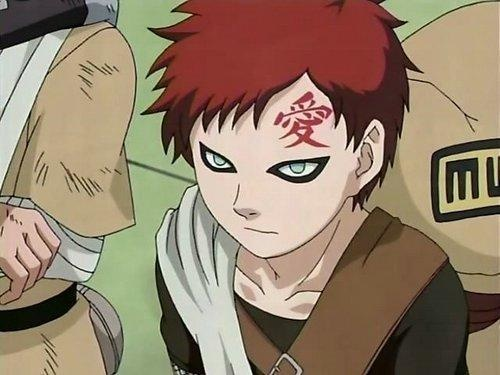gaara: (189, 68, 388, 260)
